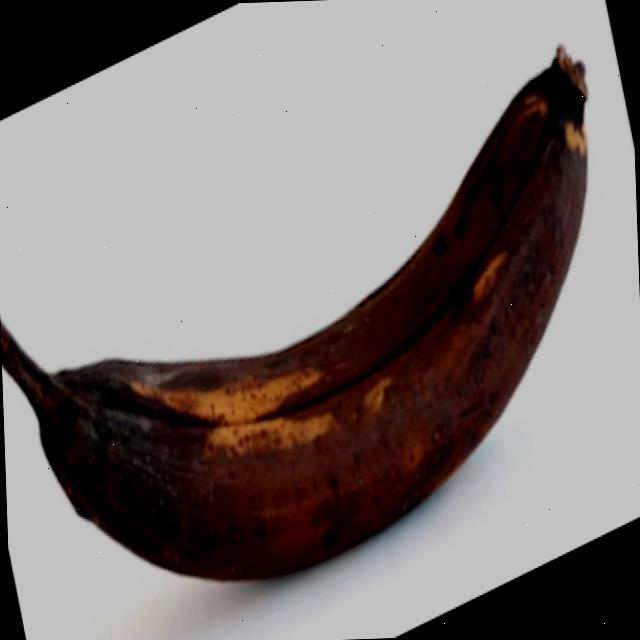Rotten: (0, 17, 619, 614)
